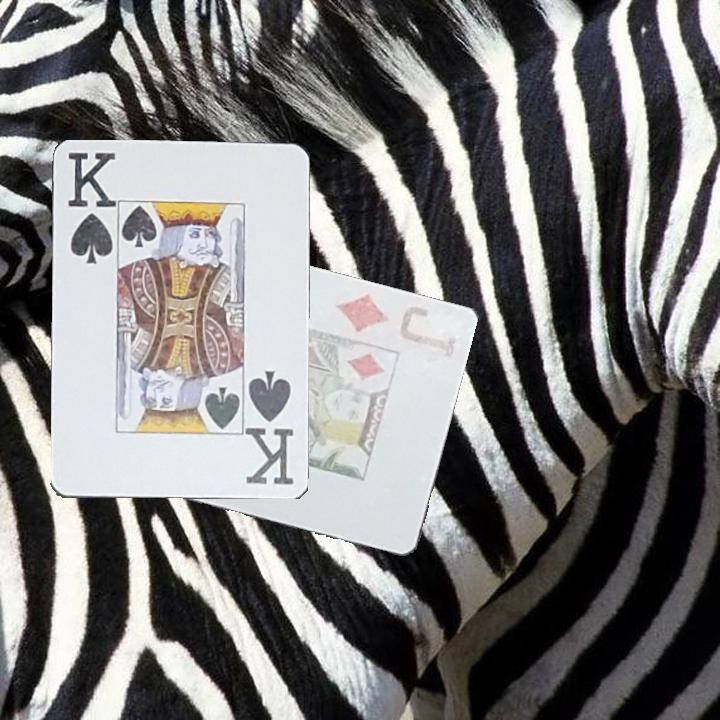Jd: (333, 287, 465, 360)
Ks: (246, 367, 297, 488), (64, 149, 115, 267)
